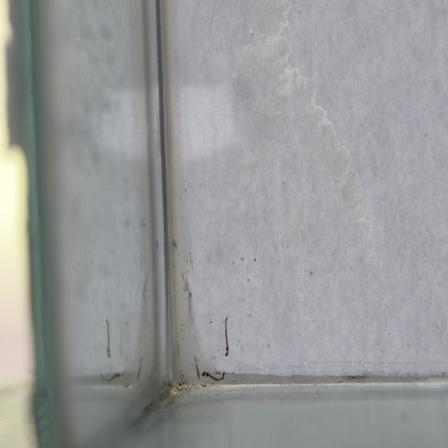Jentik-Nyamuk: (219, 314, 234, 361), (199, 364, 228, 387)
